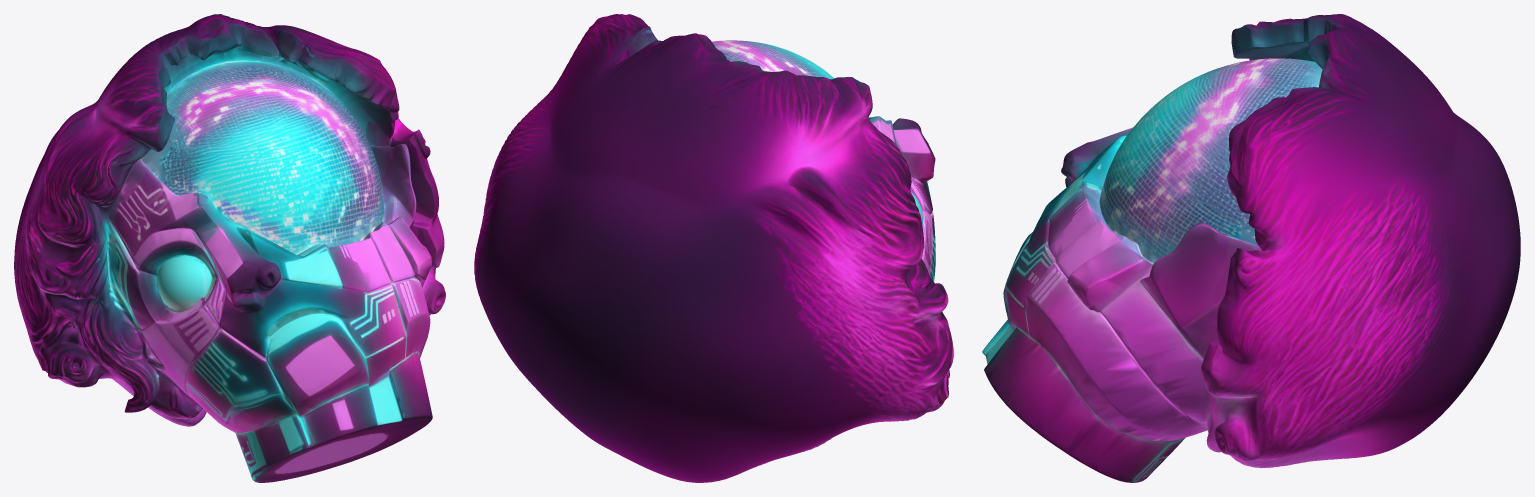
File: estatua-v2.glb
3 views of the same model, side by side, from view 1: azimuth 30°, elevation 25°; view 2: azimuth 150°, elevation 25°; view 3: azimuth 270°, elevation 25° (orthographic). The views are drawn at different scales.
Visible parts, largest first — view 1: Mesh_0; view 2: Mesh_0; view 3: Mesh_0.
Part boxes in pixels (x1,y1,x2,y2): Mesh_0: (14, 14, 445, 482); Mesh_0: (474, 14, 953, 482); Mesh_0: (982, 14, 1520, 482).
Size of the model in its own units: 1.02 by 0.9863 by 1.09.
Materials: 1 (1 with a texture image).
